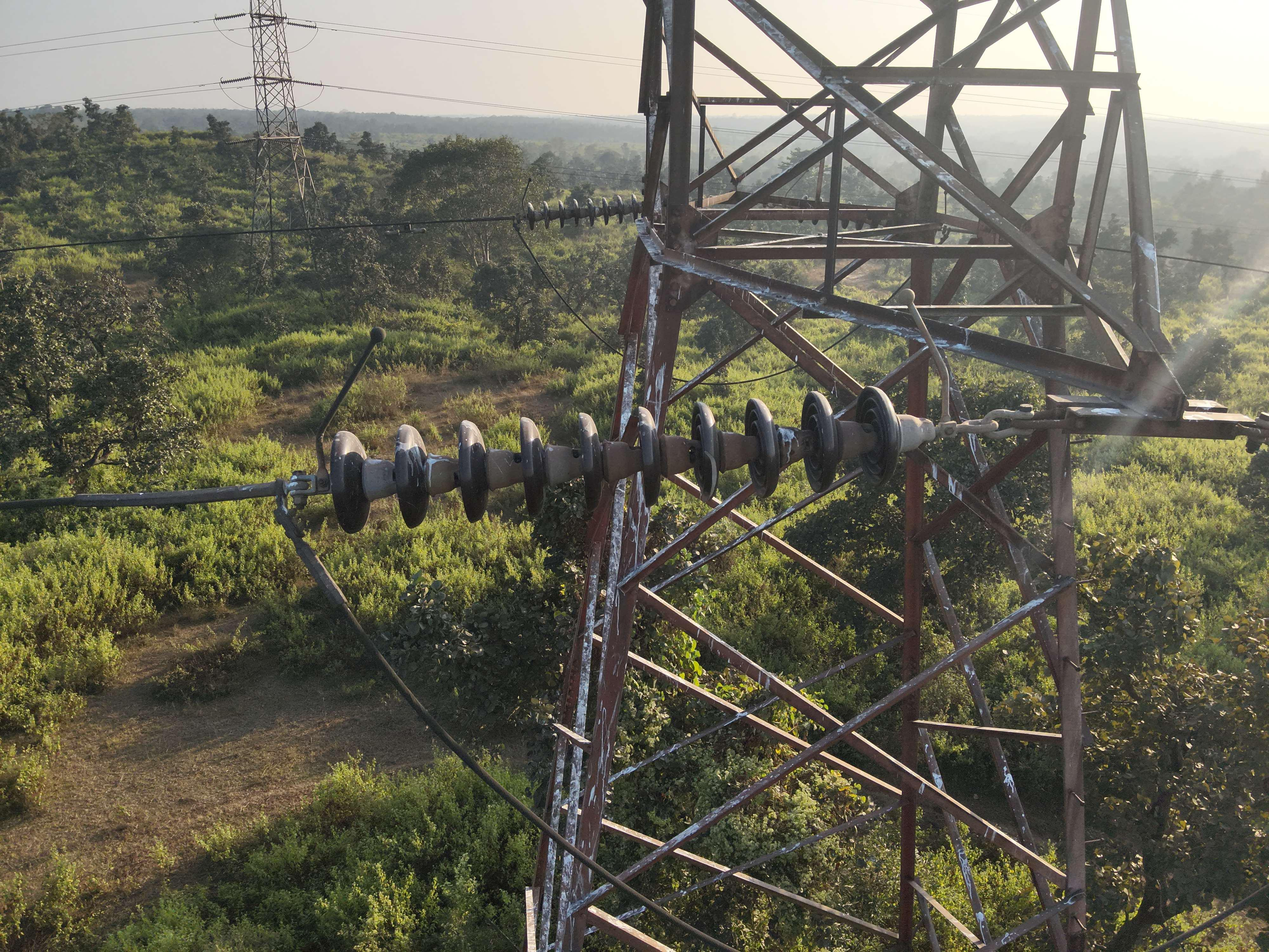broken_insulator: (688, 396, 730, 506)
